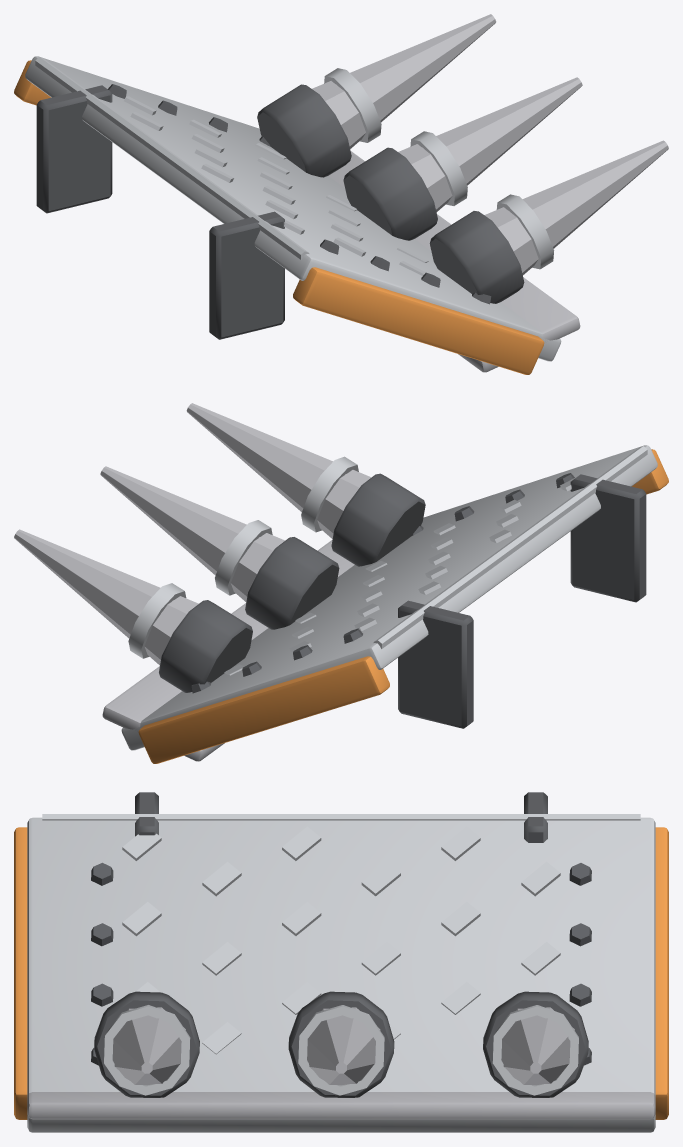
File: ram.glb
3 views of the same model, one above another, from view 1: azimuth 30°, elevation 25°; view 2: azimuth 150°, elevation 25°; view 3: azimuth 270°, elevation 25° (orthographic). The views are drawn at different scales.
Parts seen in each view (by area): view 1: body; view 2: body; view 3: body.
Boxes of the visible parts, x1,y1,x2,y2 form: body: (14, 14, 668, 374); body: (14, 403, 668, 763); body: (14, 792, 668, 1132).
Bounding box in the file's own units: 0.3956 × 0.1393 × 0.438.
